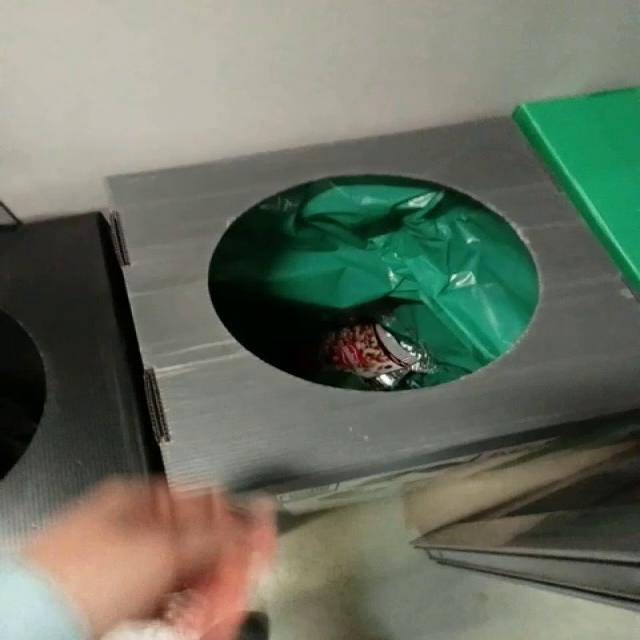Bin: (107, 117, 639, 490)
Metal: (321, 324, 427, 390)
